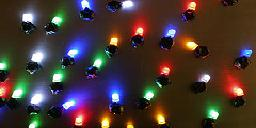LED: (83, 58, 105, 81), (201, 108, 224, 127), (193, 73, 214, 93), (107, 93, 128, 113), (159, 28, 179, 48), (49, 74, 66, 95), (132, 25, 147, 47), (106, 35, 120, 56), (234, 88, 247, 107)
